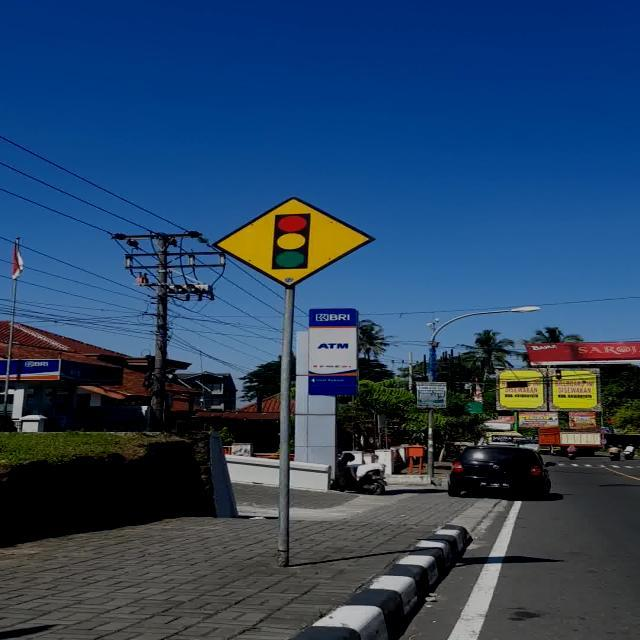Lampu Lalu Lintas: (212, 196, 376, 288)
